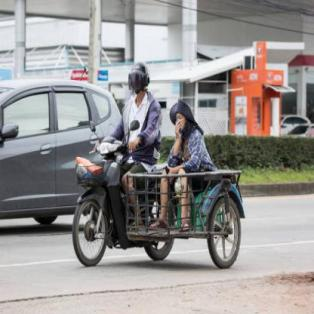Motocicleta: (74, 117, 122, 266)
